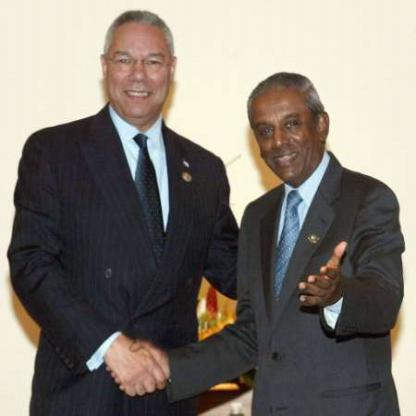face: (254, 79, 321, 186), (108, 14, 173, 121)
